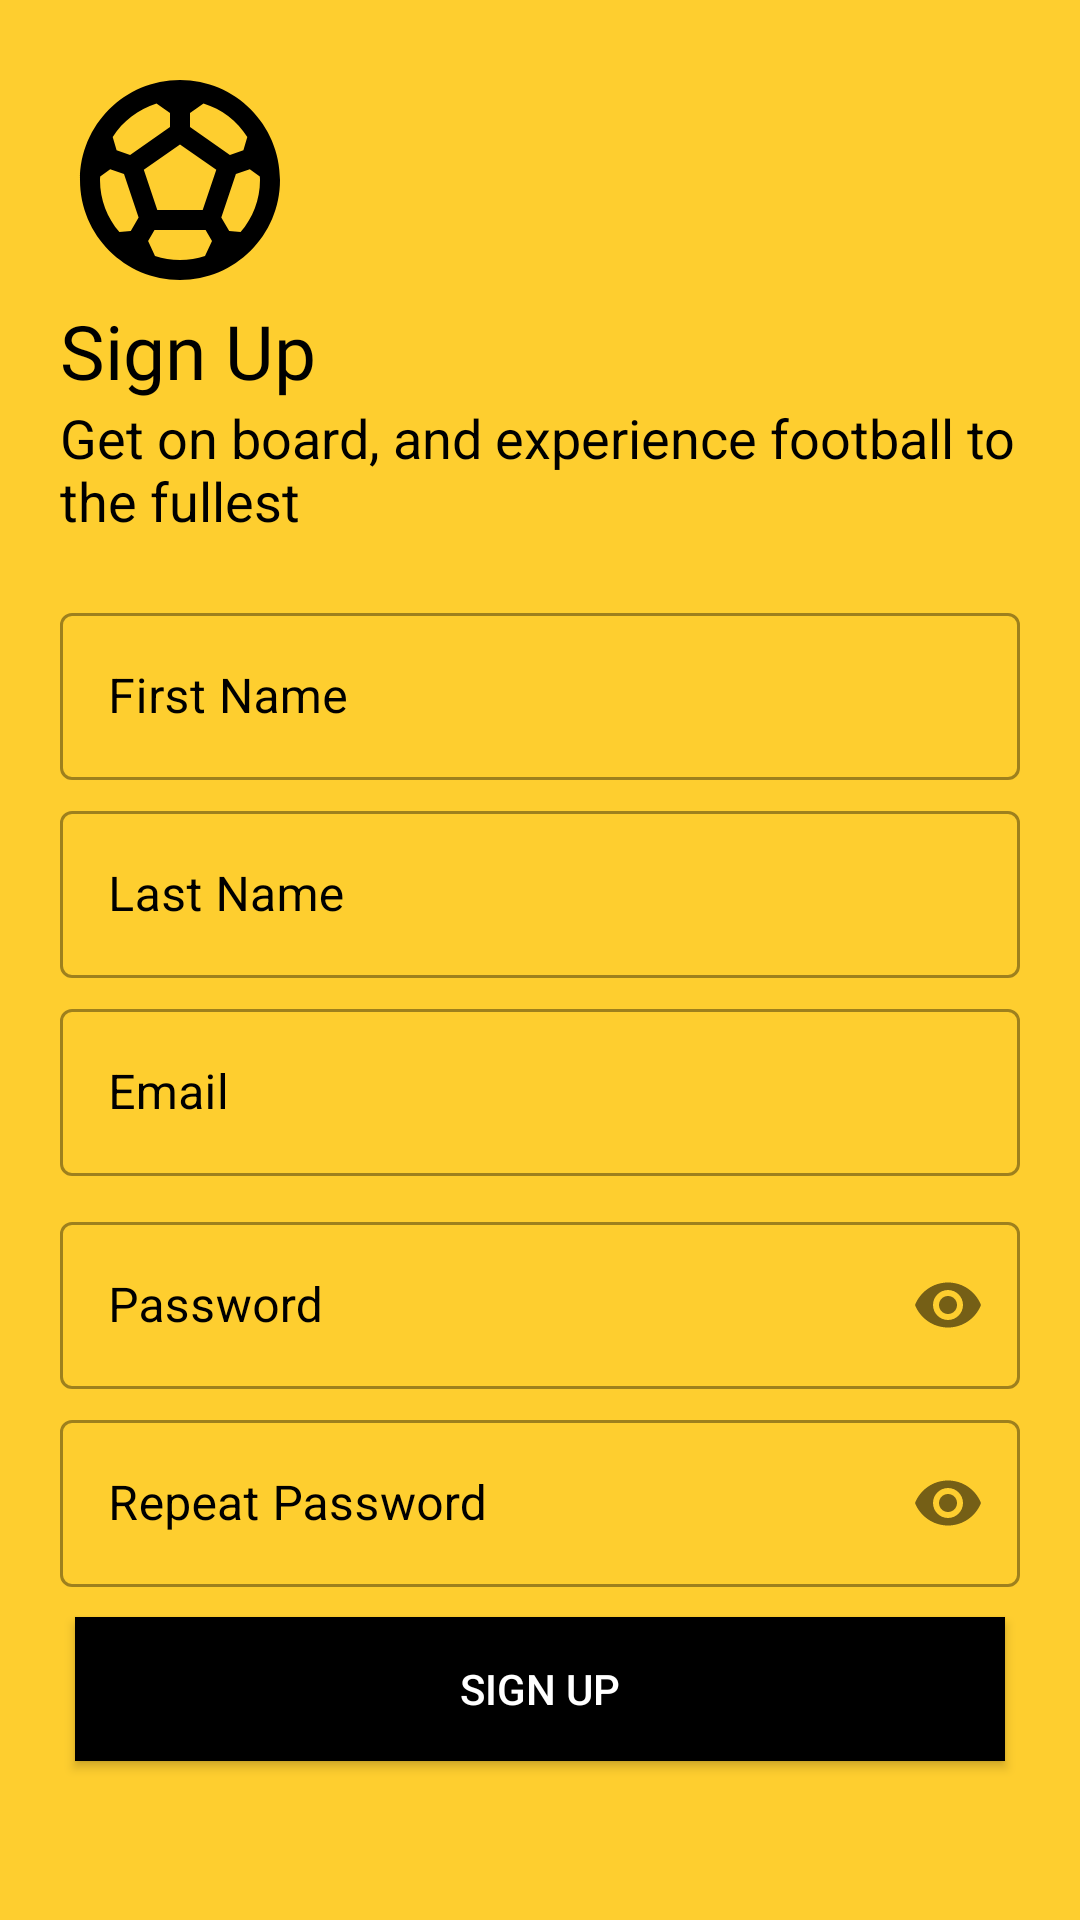

Named icons in this screenshot (1080px x 1920px) and their bounding boxes, (left=x1, top=y1, right=x2, bottom=y2):
sports soccer: (left=79, top=80, right=280, bottom=280)
